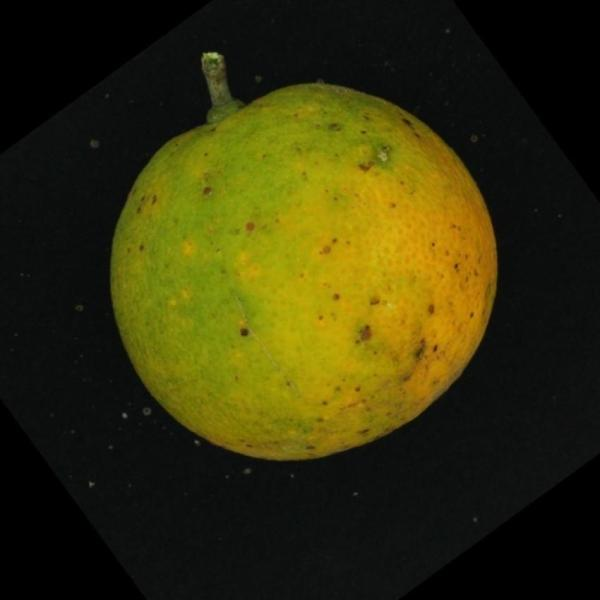Greening: (94, 52, 516, 475)
